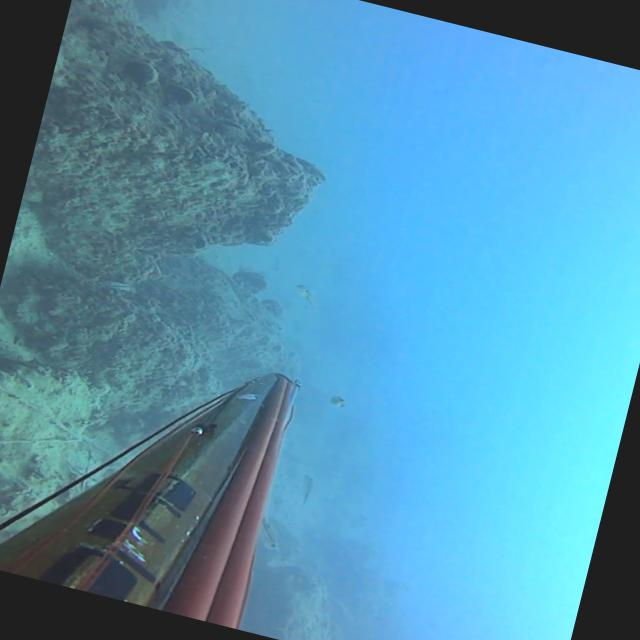Balon Baligi: (253, 516, 282, 548), (290, 282, 318, 309), (293, 474, 314, 507), (328, 392, 346, 408)
